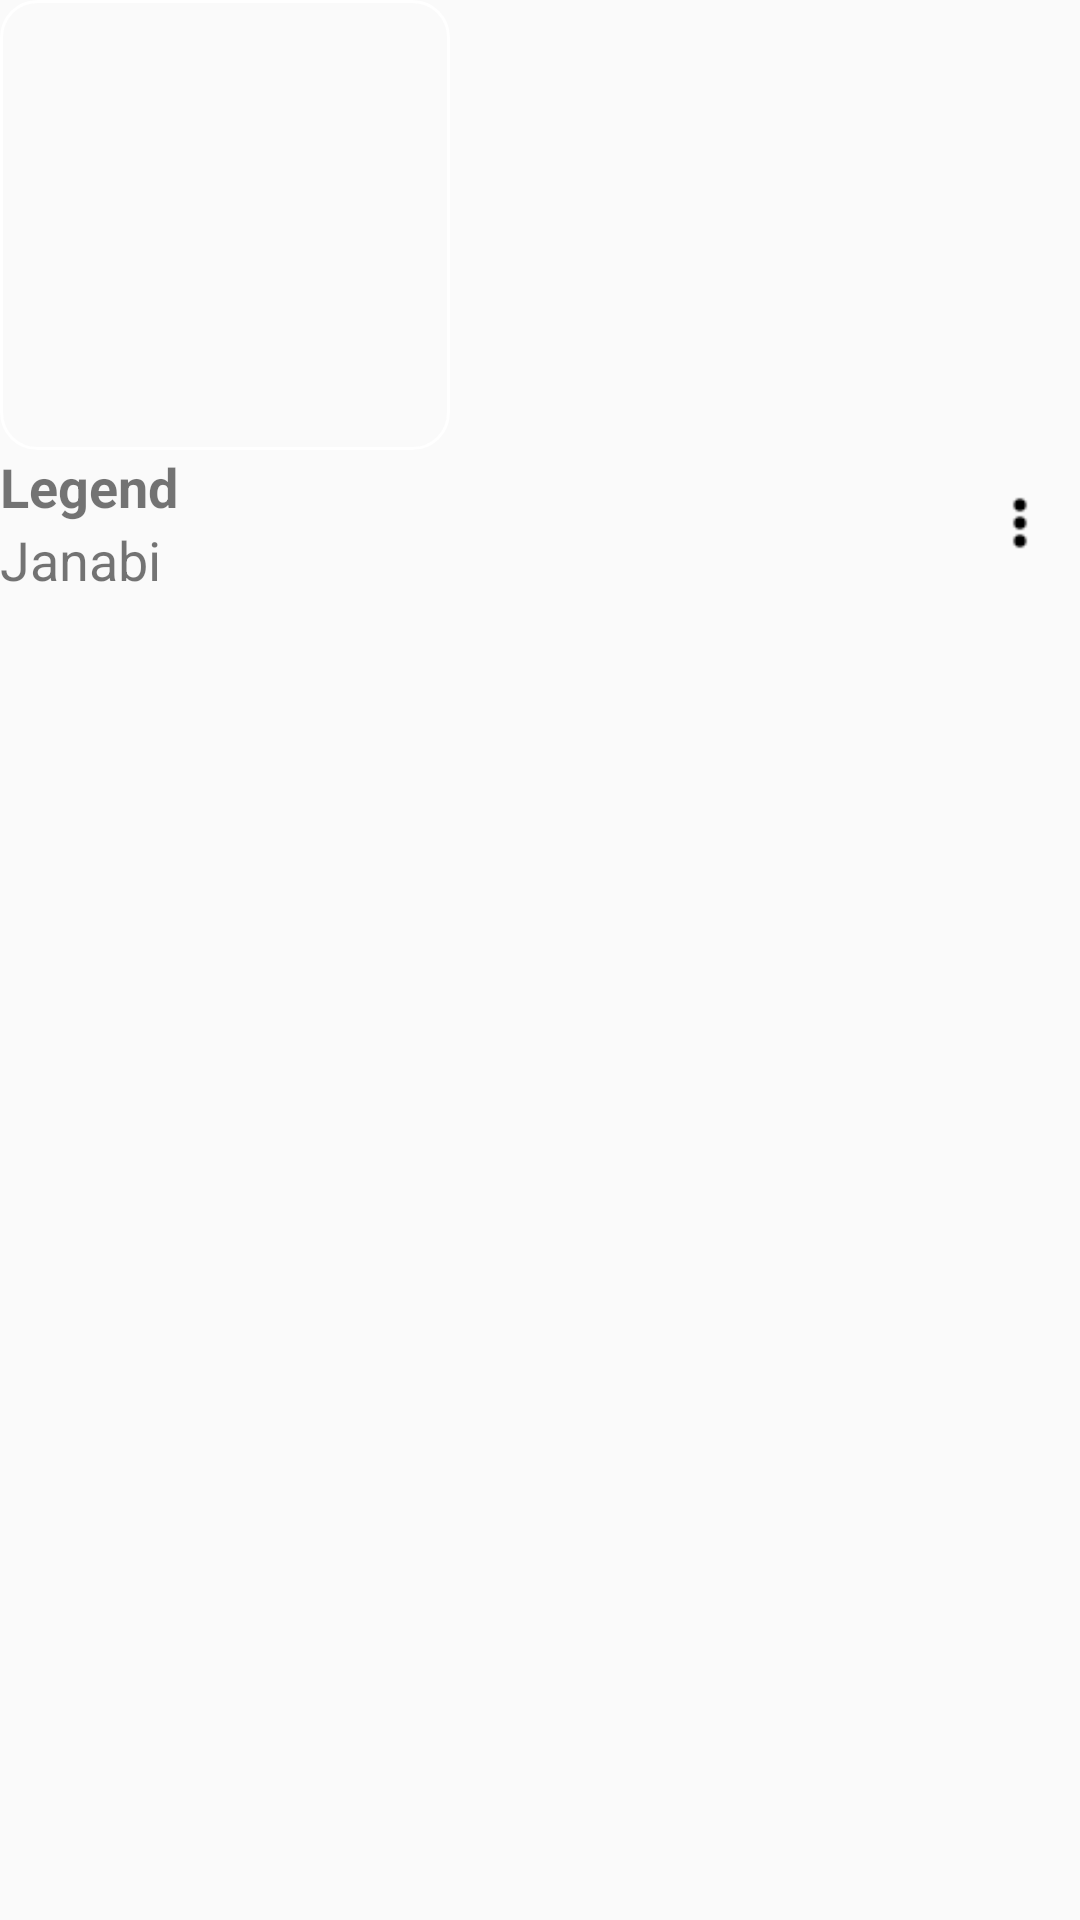

Point at icon controls on the screen. Image size 1080 × 1920, points as (x,y).
item more: (1020,523)
